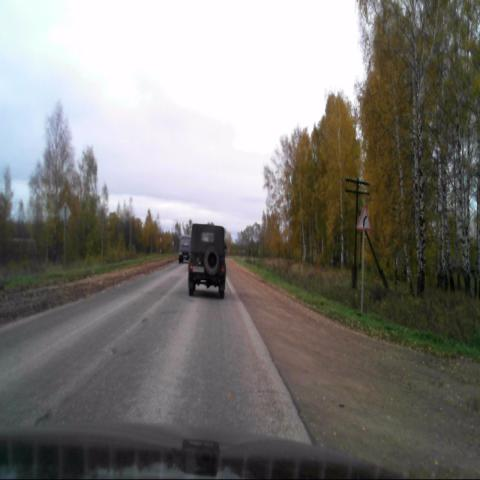1_11: (356, 204, 372, 230)
